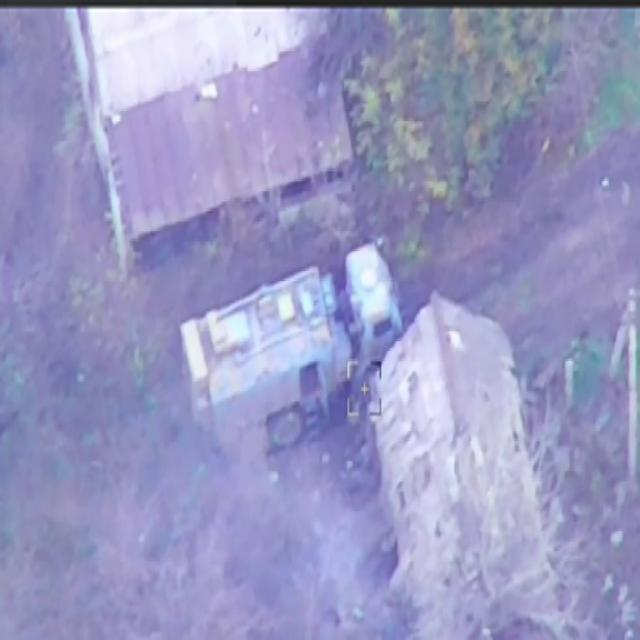TRUCK: (184, 238, 406, 472)
